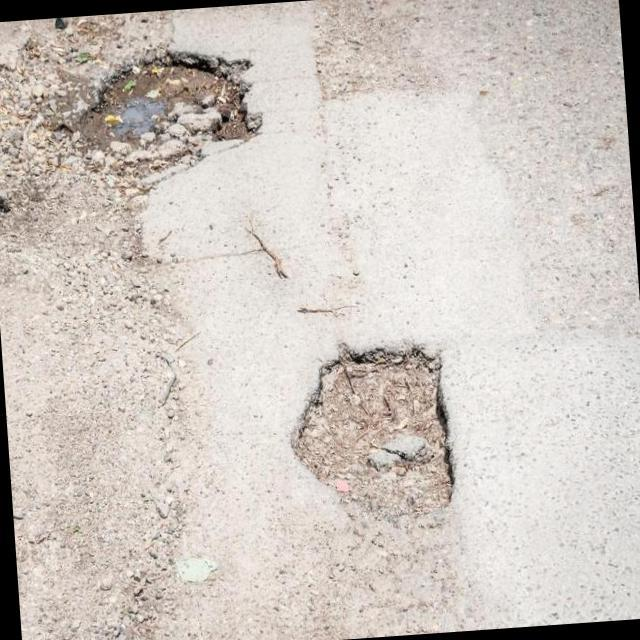Pothole: (291, 345, 454, 523), (51, 52, 264, 178)
